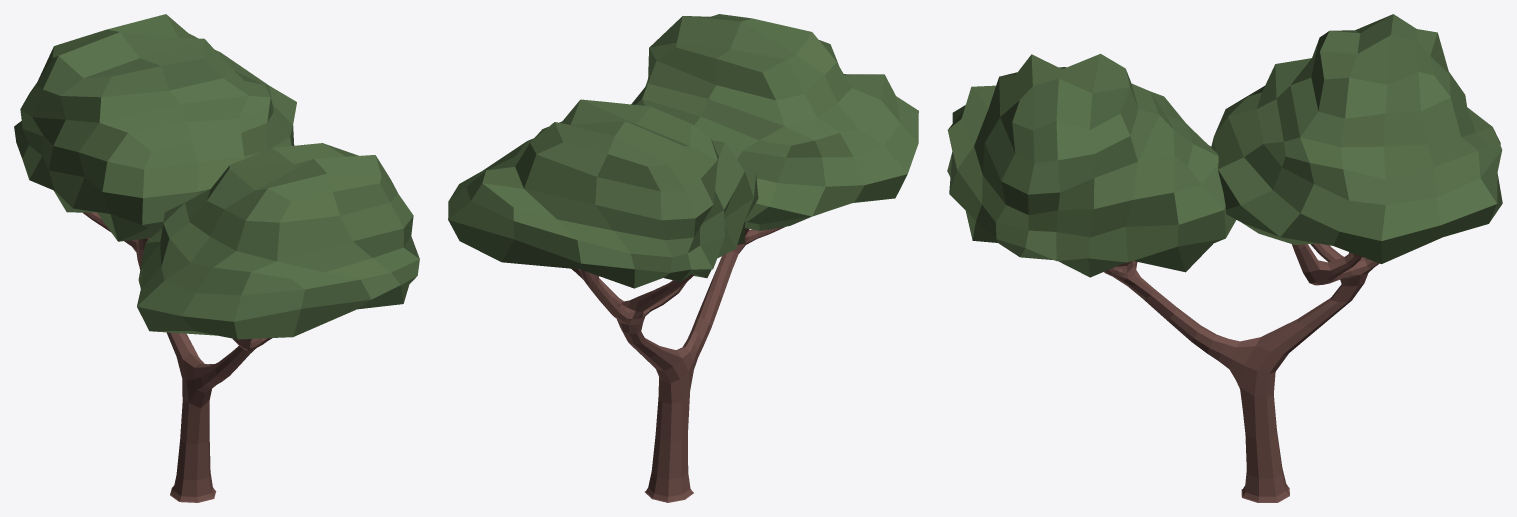
Rendered from tree1.glb.
The picture shows the model from 3 angles, left to right: view 1: azimuth 30°, elevation 25°; view 2: azimuth 150°, elevation 25°; view 3: azimuth 270°, elevation 25°; orthographic projection. The views are drawn at different scales.
Visible parts, largest first — view 1: CommonTree_1; view 2: CommonTree_1; view 3: CommonTree_1.
Part boxes in pixels (x1,y1,x2,y2): CommonTree_1: [14, 14, 419, 502]; CommonTree_1: [448, 14, 918, 502]; CommonTree_1: [947, 14, 1502, 502].
Bounding box in the file's own units: 1.89 × 2.48 × 2.77.
